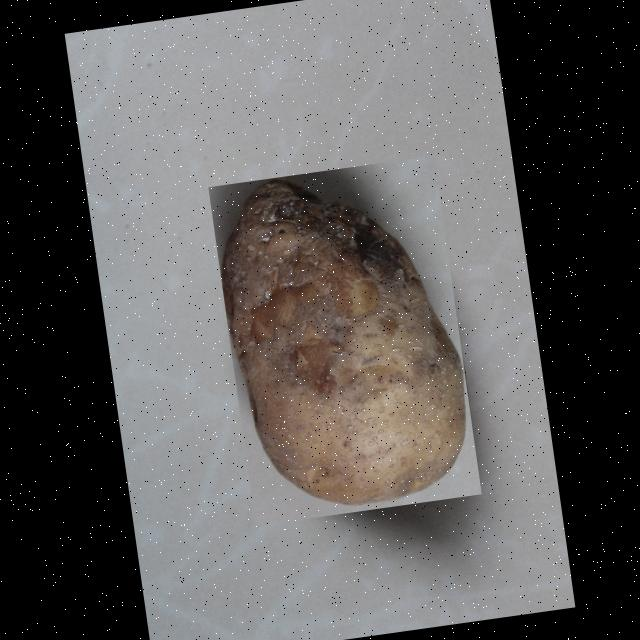Diseased-fungal potato: (208, 155, 482, 524)
